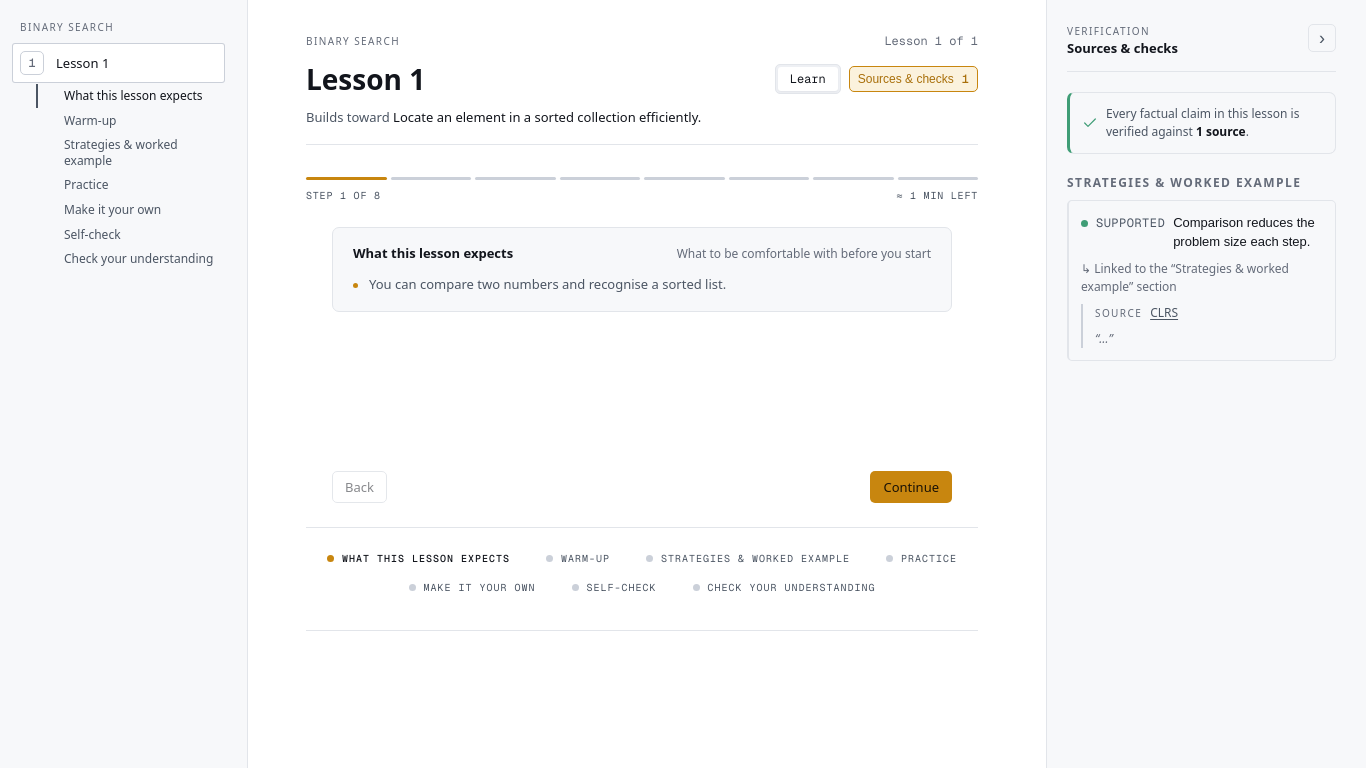
it: CourseReader — Learn mode › jumps to a section's first step from the section map
Click the 2nd button "Practice" at (922, 558), box [878,548,965,568]
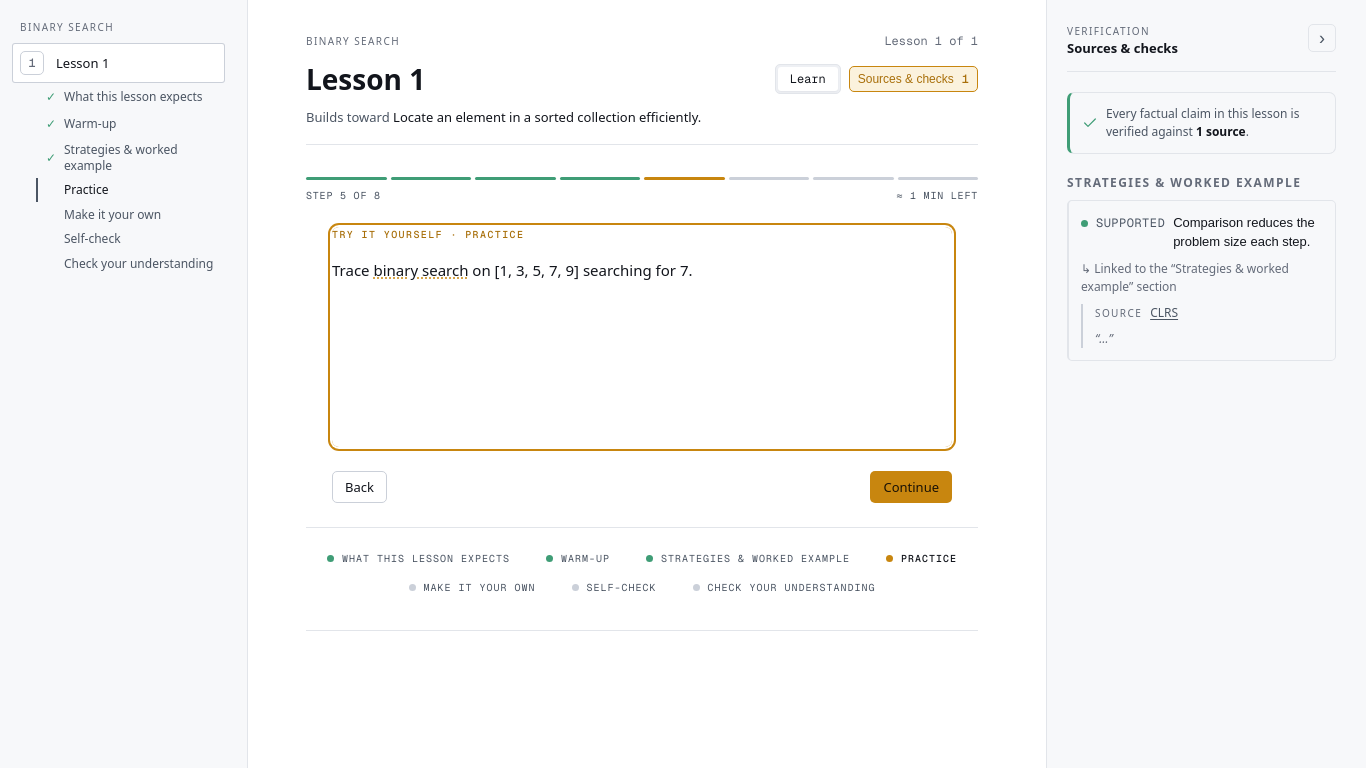
expect the text "Step 5 of 8" is shown: met, box [306,188,381,202]
expect the text "Trace binary search on [1, 3, 5, 7, 9] searching for 7." is shown: met, box [332,258,692,282]
